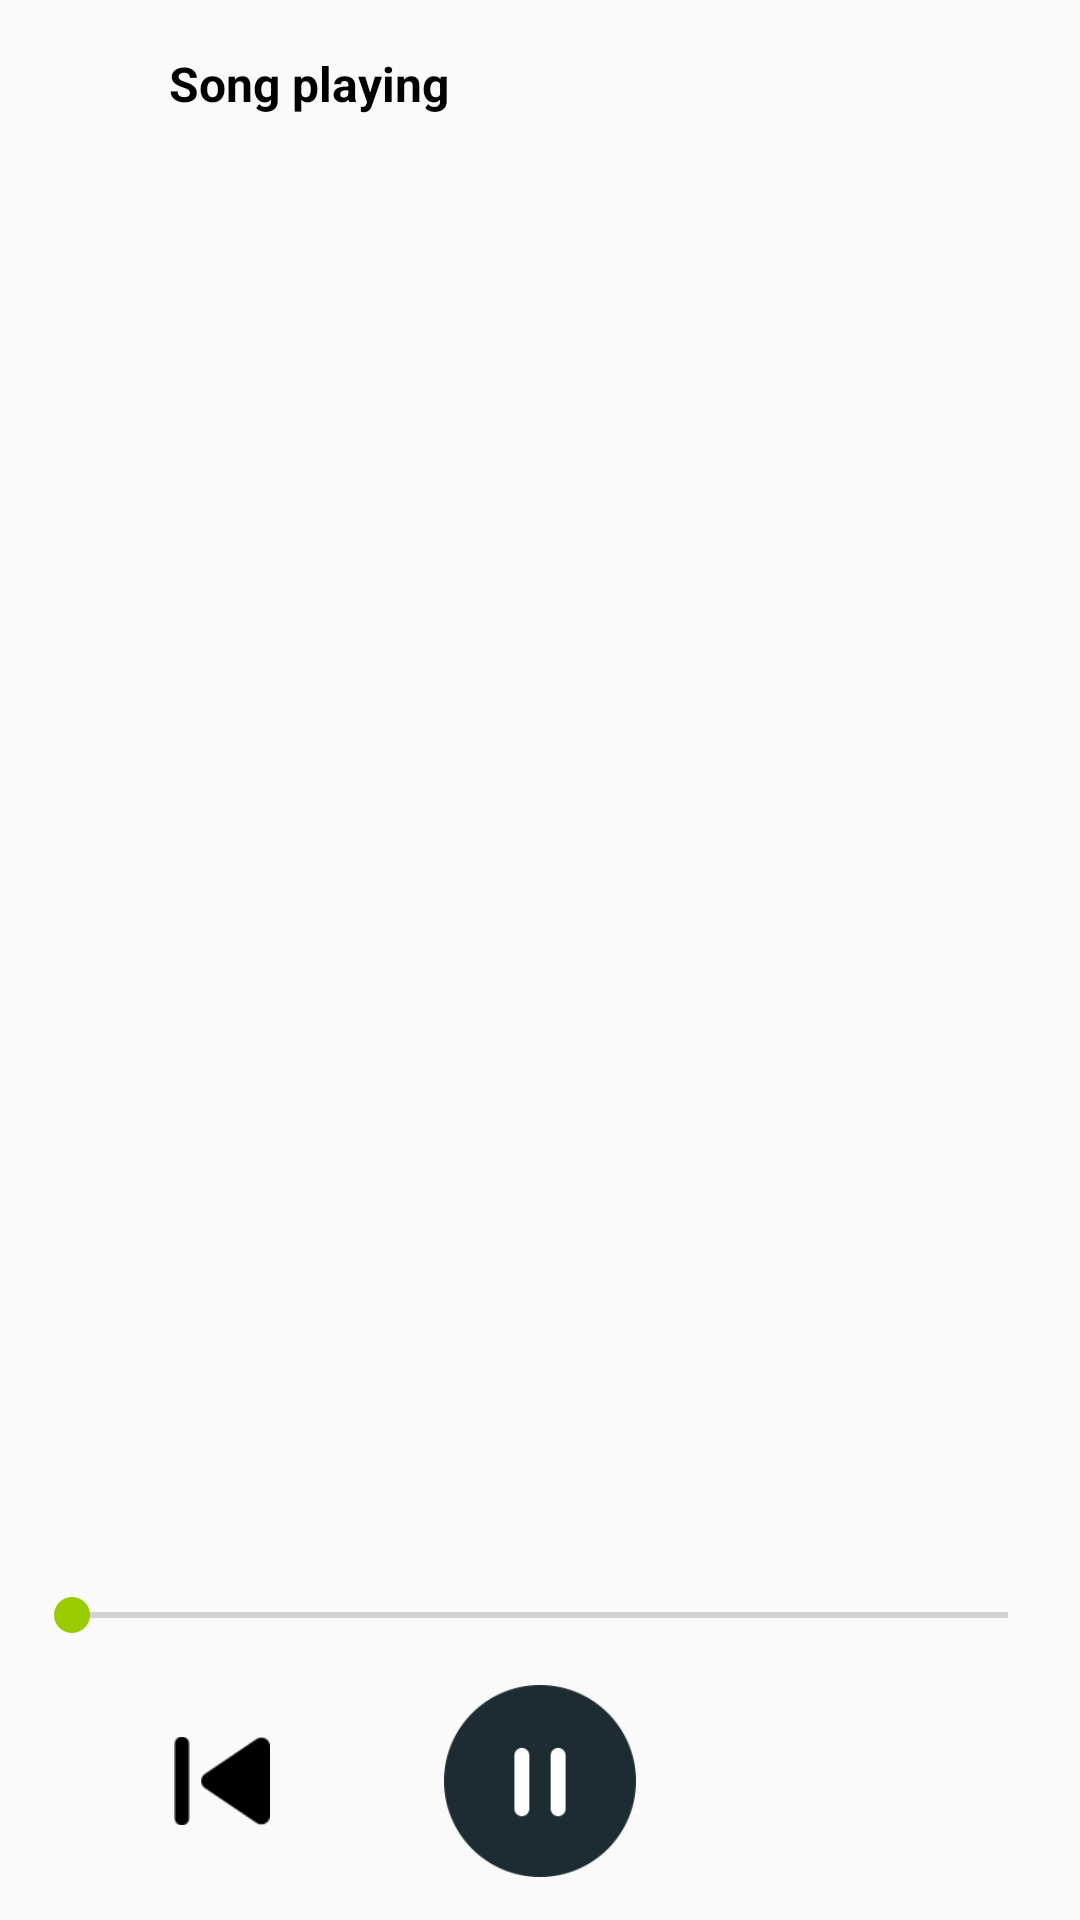

Named icons in this screenshot (1080px x 1920px) and their centers, [x,y]:
back: [222,1781]
pause: [540,1781]
